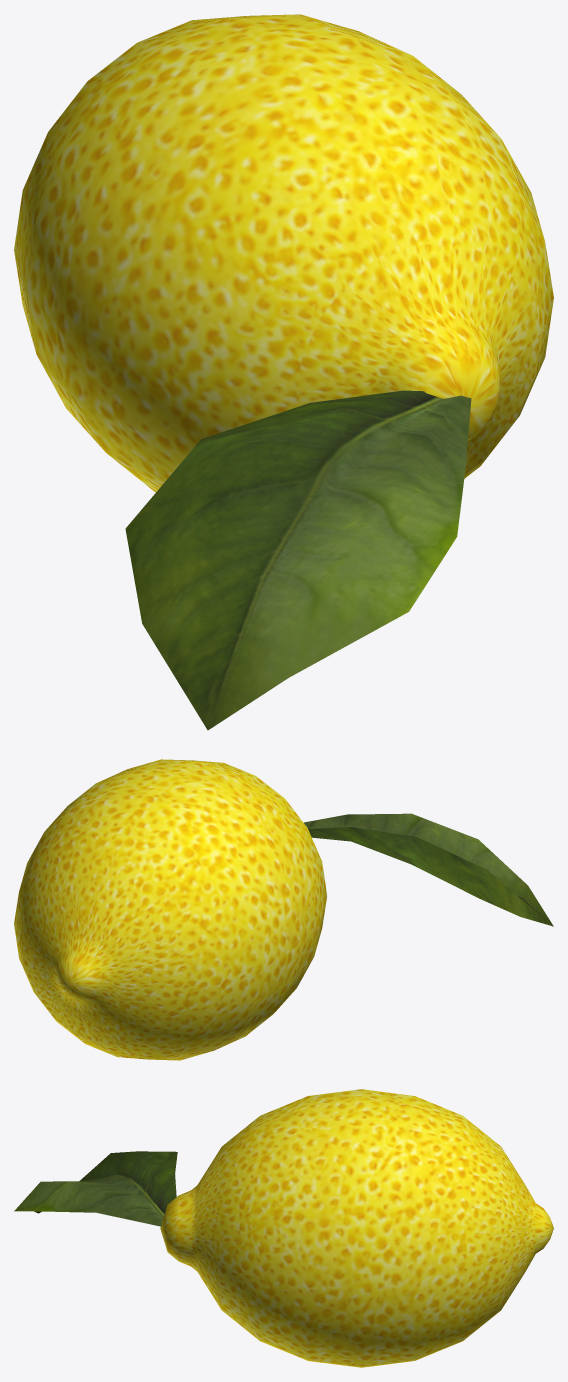
The model's file is lemon.FBX.
3 views of the same model, one above another, from view 1: azimuth 30°, elevation 25°; view 2: azimuth 150°, elevation 25°; view 3: azimuth 270°, elevation 25° (orthographic). The views are drawn at different scales.
Visible parts, largest first — view 1: lemon_yellow; view 2: lemon_yellow; view 3: lemon_yellow.
Part boxes in pixels (left/top/right/bottom): lemon_yellow: left=14, top=14, right=553, bottom=730; lemon_yellow: left=14, top=759, right=553, bottom=1060; lemon_yellow: left=14, top=1089, right=553, bottom=1367.
Size of the model in its own units: 8.38 by 6.23 by 11.98.
1 material, 1 textured.
